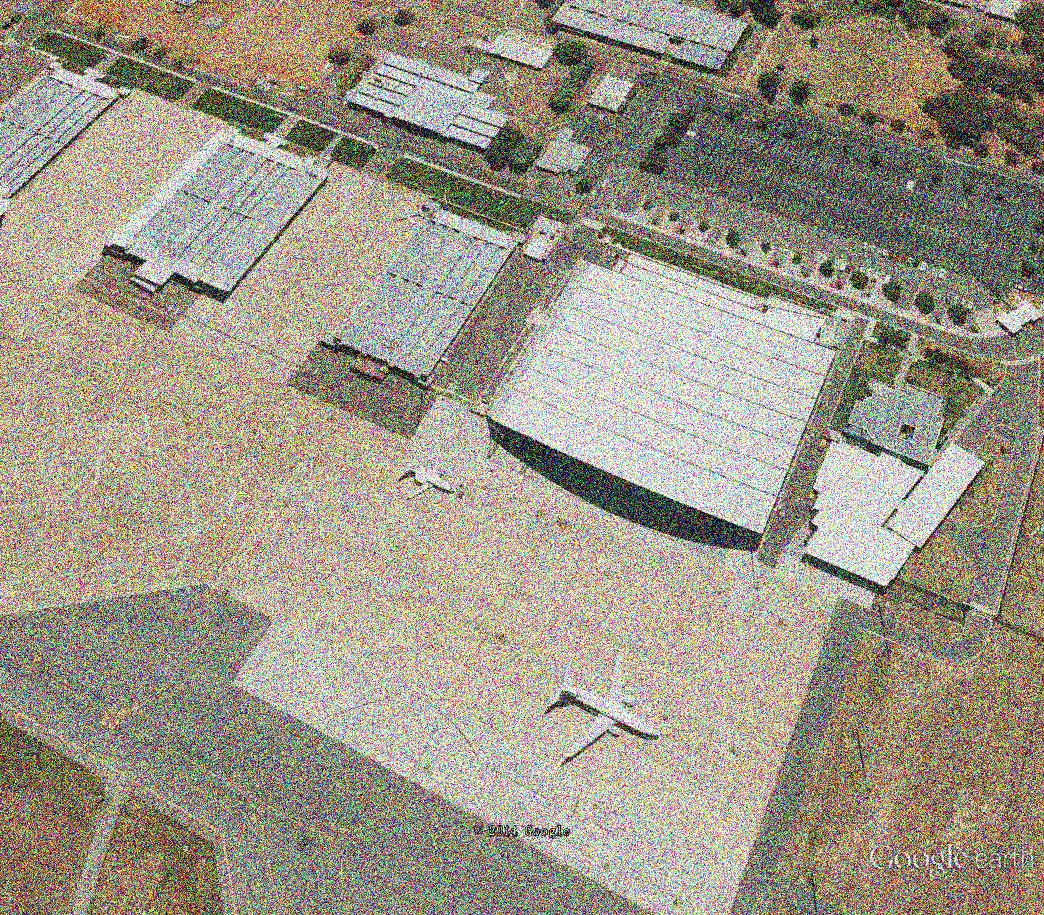aircraft: (543, 645, 667, 771), (396, 454, 462, 504), (396, 202, 424, 228)
